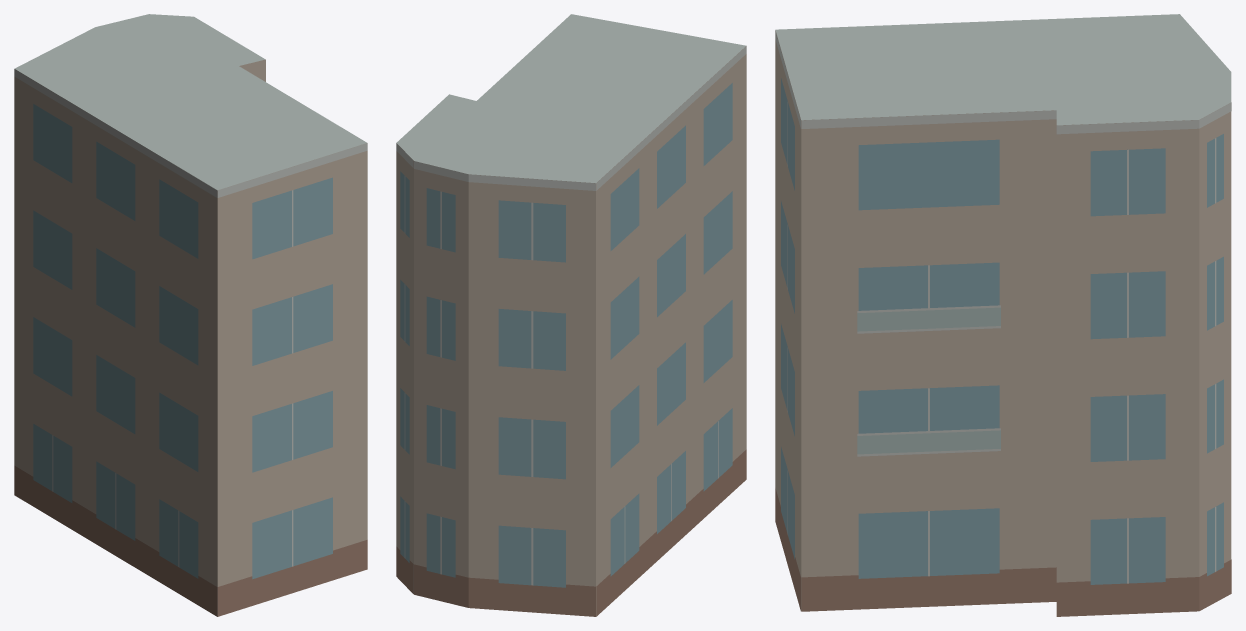
Rendered from survey-upis-32487123.glb.
The picture shows the model from 3 angles, left to right: view 1: azimuth 30°, elevation 25°; view 2: azimuth 150°, elevation 25°; view 3: azimuth 270°, elevation 25°; orthographic projection. The views are drawn at different scales.
Parts seen in each view (by area): view 1: survey-upis-32487123.tmp; view 2: survey-upis-32487123.tmp; view 3: survey-upis-32487123.tmp.
Boxes of the visible parts, x1=… form: survey-upis-32487123.tmp: x1=14, y1=14, x2=367, y2=616; survey-upis-32487123.tmp: x1=396, y1=14, x2=746, y2=616; survey-upis-32487123.tmp: x1=775, y1=14, x2=1231, y2=616.
Size of the model in its own units: 6.52 by 13.4 by 11.28.
